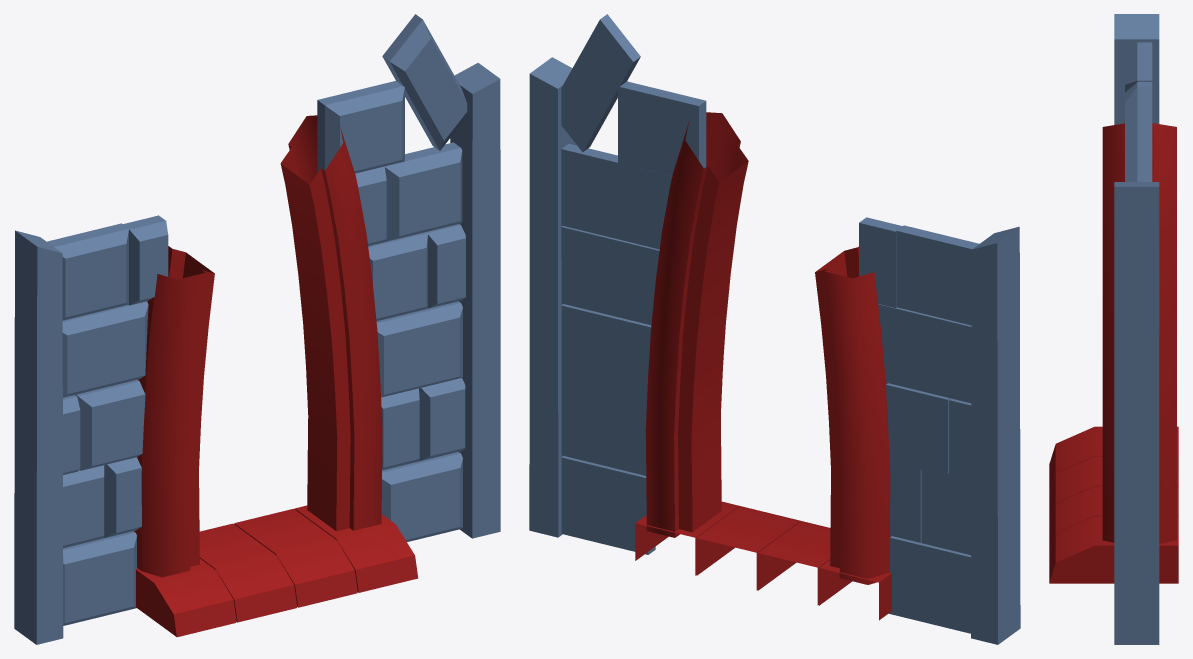
The model's file is Ruins_Window_2.FBX.
The picture shows the model from 3 angles, left to right: view 1: azimuth 30°, elevation 25°; view 2: azimuth 150°, elevation 25°; view 3: azimuth 270°, elevation 25°; orthographic projection.
Parts seen in each view (by area): view 1: Box043, Box042; view 2: Box043, Box042; view 3: Box043, Box042.
Boxes of the visible parts, left/top/right/bottom form: Box043: left=14, top=14, right=500, bottom=644; Box042: left=134, top=115, right=418, bottom=637; Box043: left=529, top=14, right=1020, bottom=644; Box042: left=635, top=112, right=891, bottom=620; Box043: left=1114, top=14, right=1159, bottom=644; Box042: left=1049, top=123, right=1178, bottom=583.
Bounding box in the file's own units: 63.34 × 67.81 × 15.14.
